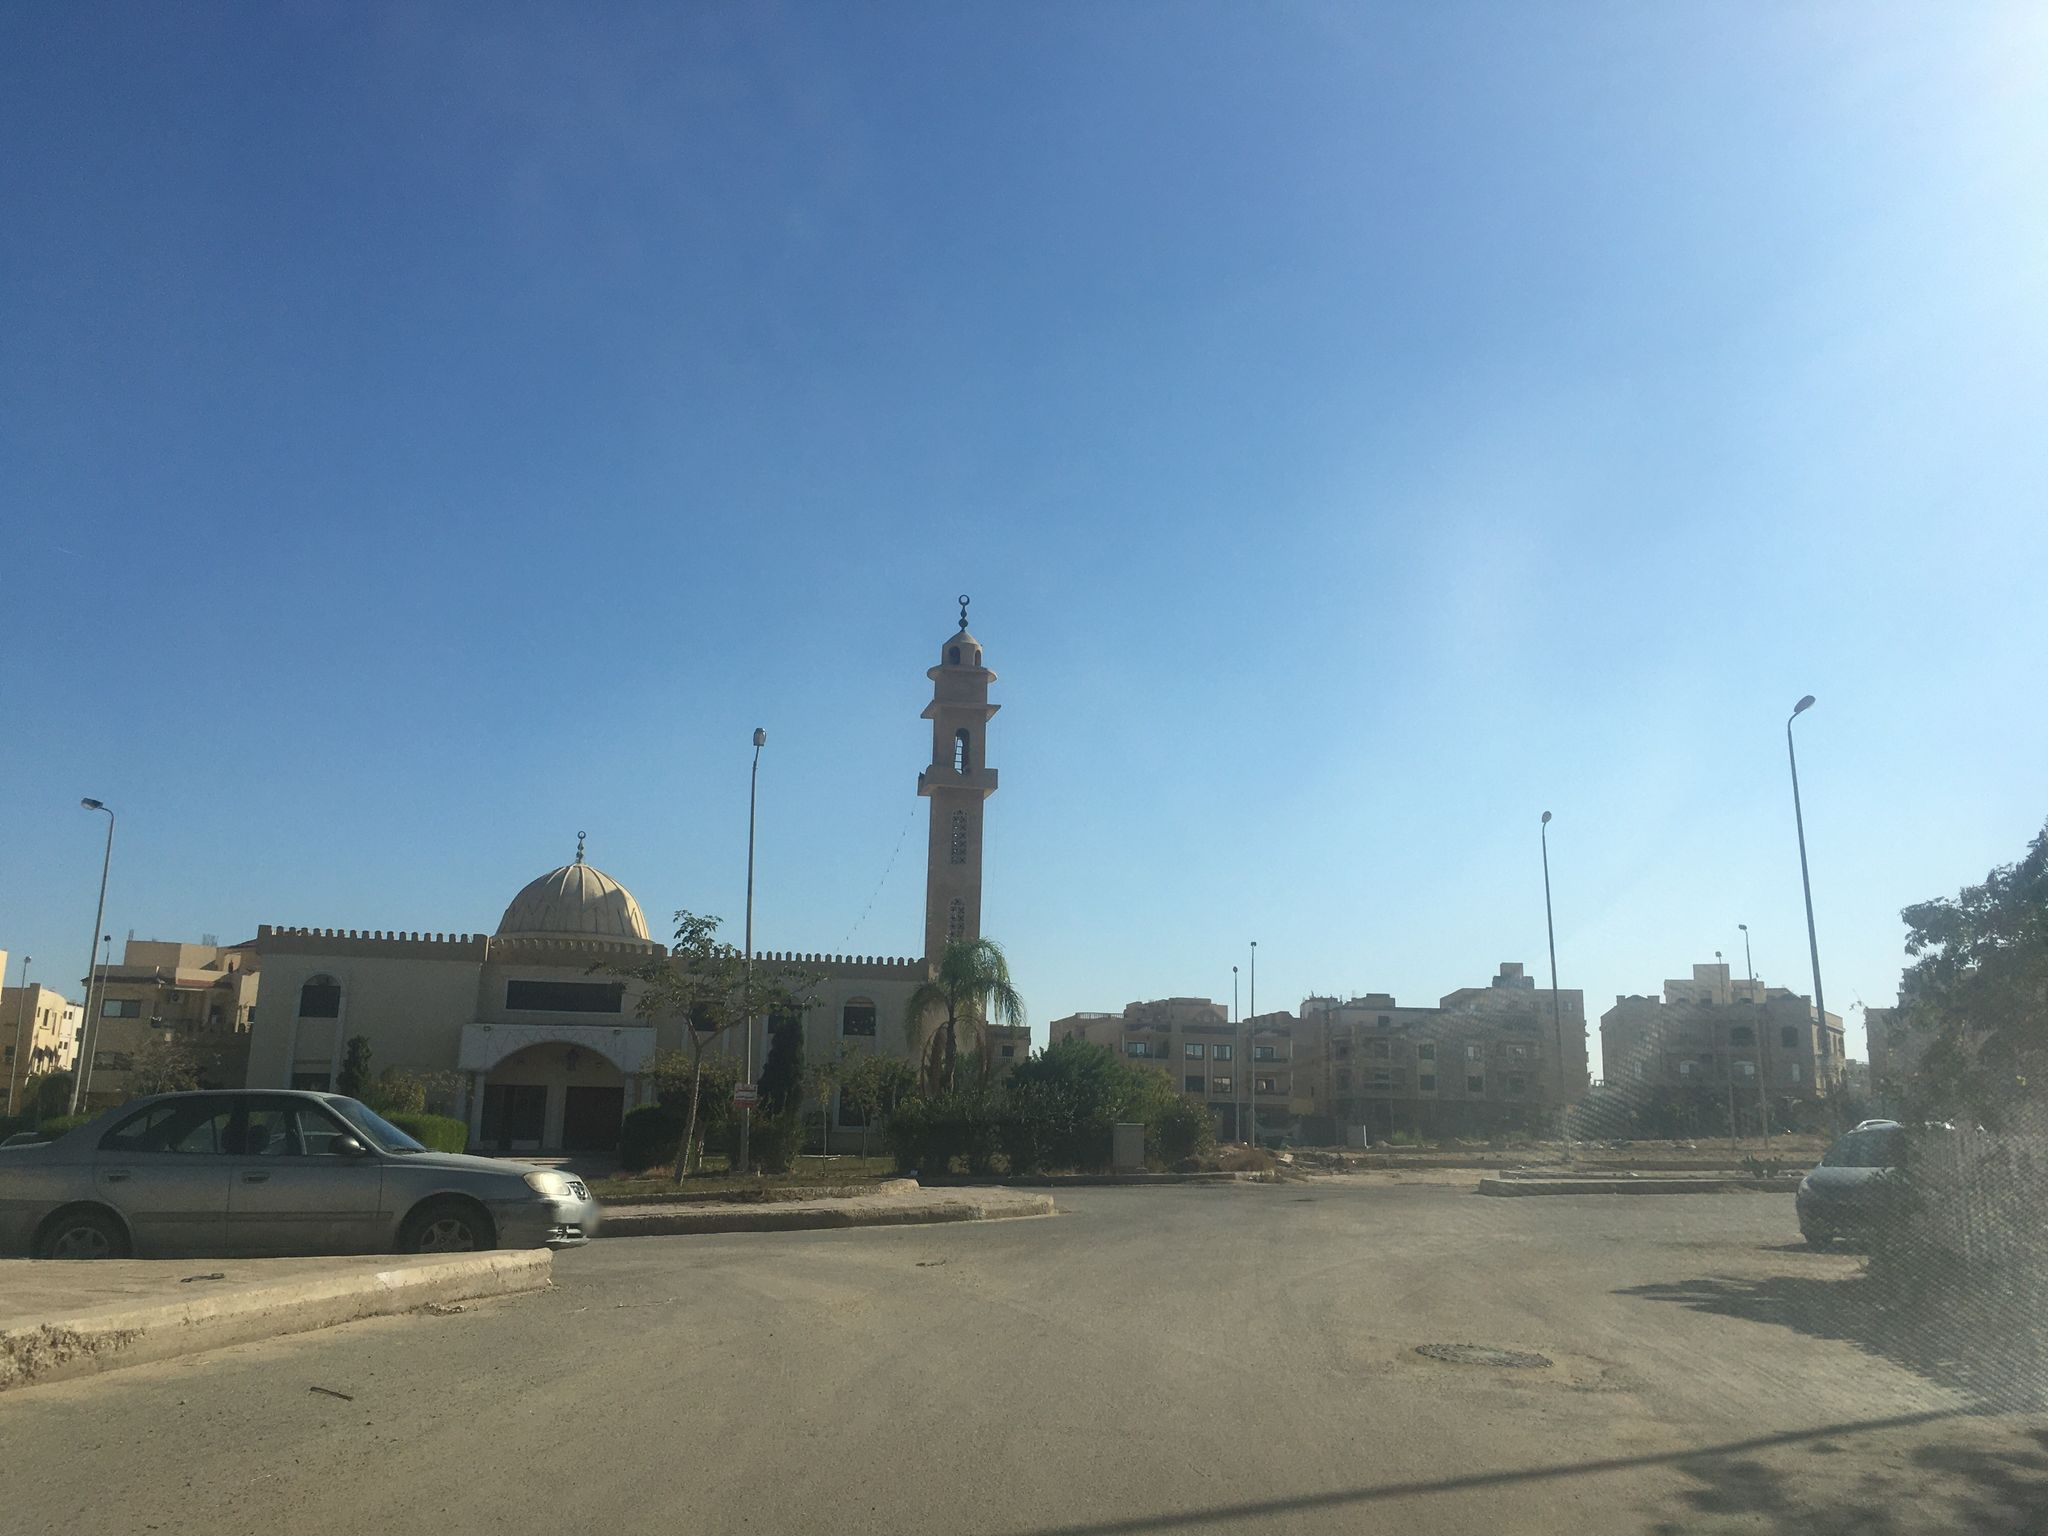car: (0, 1086, 598, 1260), (1793, 1117, 1990, 1249)
